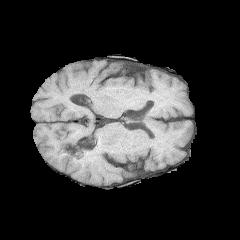glioma: (69, 145, 99, 175)
